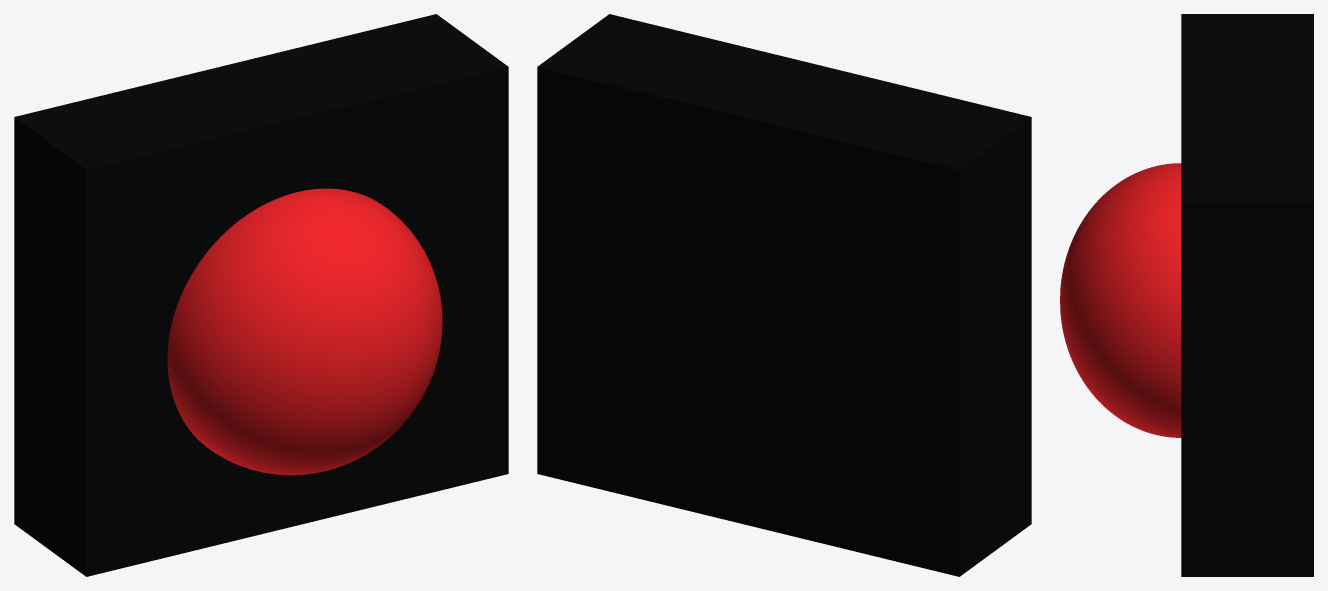
The model's file is Button.fbx.
3 views of the same model, side by side, from view 1: azimuth 30°, elevation 25°; view 2: azimuth 150°, elevation 25°; view 3: azimuth 270°, elevation 25° (orthographic). The views are drawn at different scales.
Parts seen in each view (by area): view 1: root (×2); view 2: root; view 3: root (×2).
Boxes of the visible parts, x1=… form: root (×2): x1=14, y1=14, x2=508, y2=576; root: x1=537, y1=14, x2=1031, y2=576; root (×2): x1=1060, y1=14, x2=1313, y2=576.
Size of the model in its own units: 1.19 by 1.1 by 0.6747.
2 materials, 2 textured.
